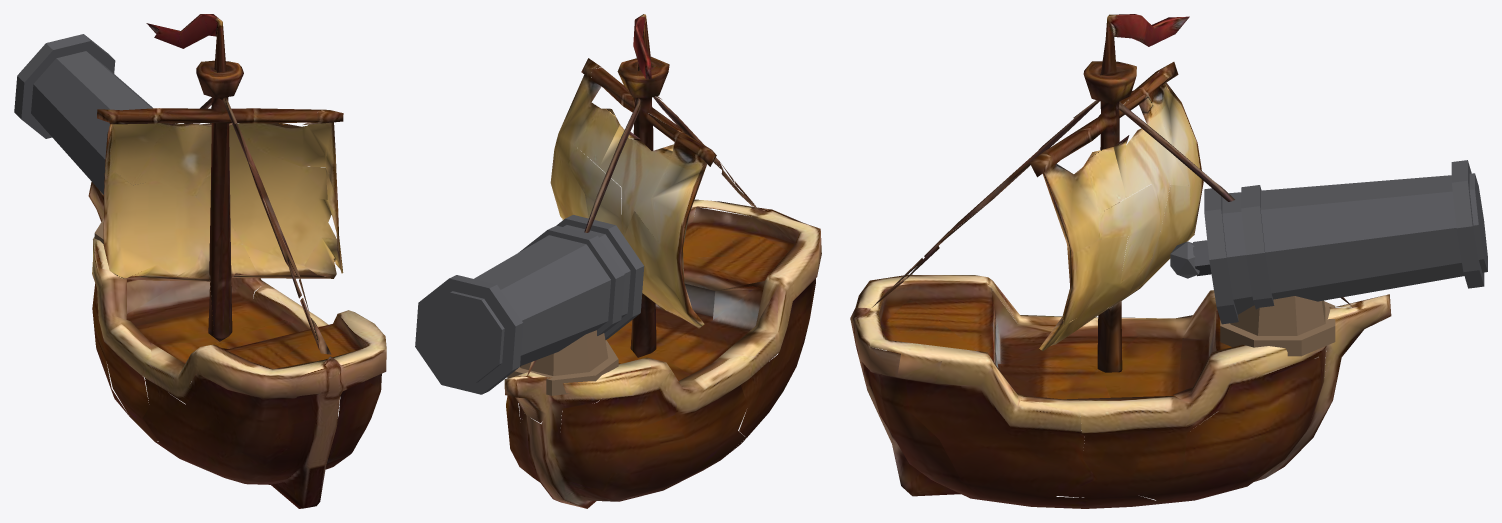
The model's file is ship.glb.
The picture shows the model from 3 angles, left to right: view 1: azimuth 30°, elevation 25°; view 2: azimuth 150°, elevation 25°; view 3: azimuth 270°, elevation 25°; orthographic projection. The views are drawn at different scales.
Parts seen in each view (by area): view 1: ship, ship_cannon; view 2: ship, ship_cannon; view 3: ship, ship_cannon.
Part boxes in pixels (bbox=[...]): ship: bbox=[88, 14, 386, 508]; ship_cannon: bbox=[14, 34, 152, 243]; ship: bbox=[504, 14, 821, 508]; ship_cannon: bbox=[415, 215, 644, 395]; ship: bbox=[850, 14, 1391, 508]; ship_cannon: bbox=[1170, 160, 1487, 356].
Bounding box in the file's own units: 0.4712 × 0.974 × 1.18.
3 materials, 1 textured.
